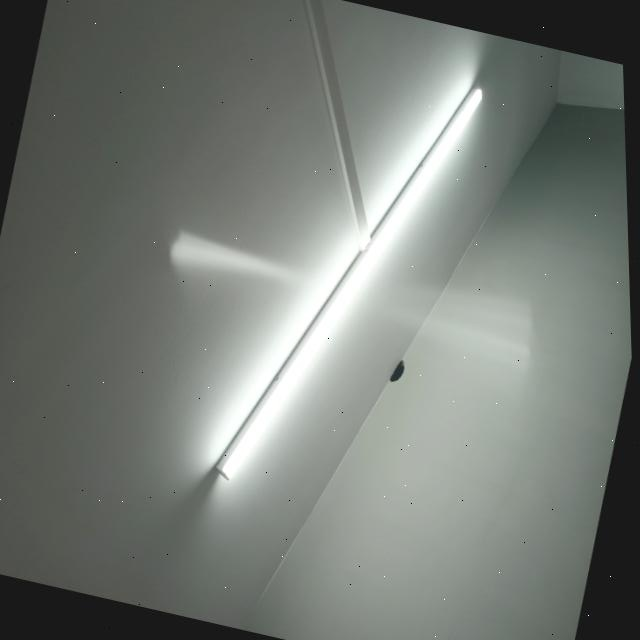fluorescent tube: (193, 31, 506, 536)
